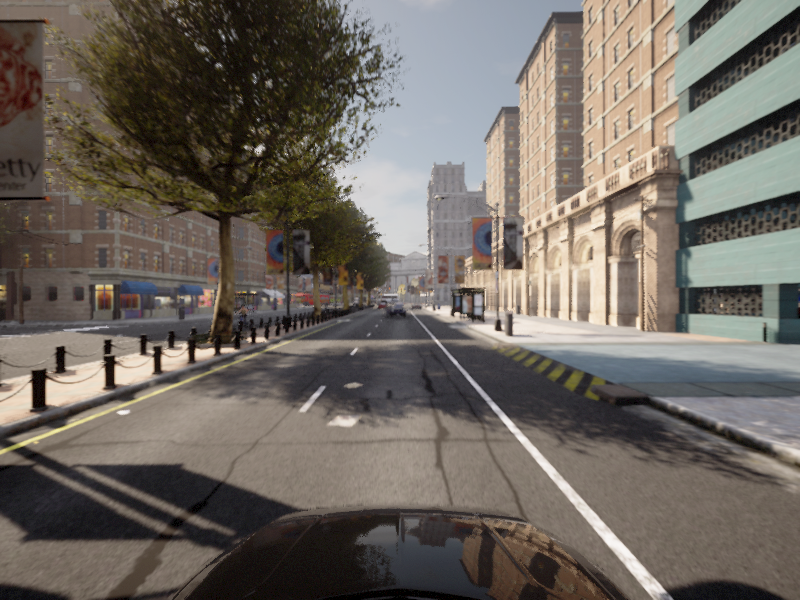vehicle: (232, 304, 252, 327), (212, 304, 234, 323), (384, 305, 406, 317)
